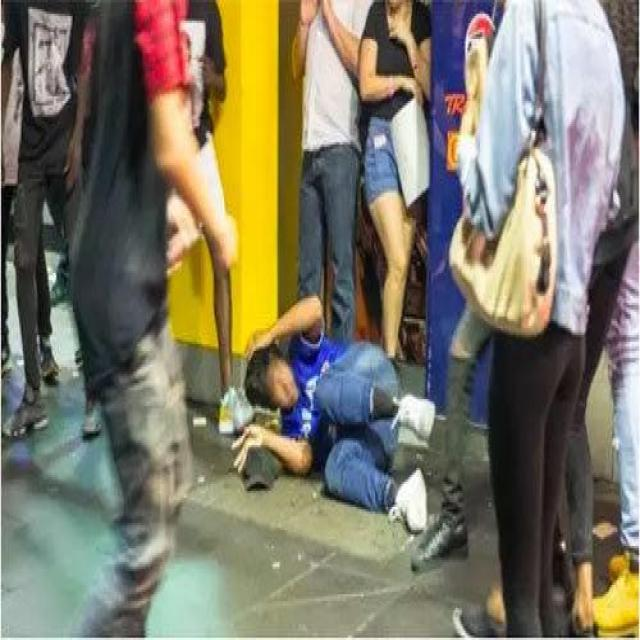10-: (8, 7, 628, 619)
down: (230, 284, 436, 562)
